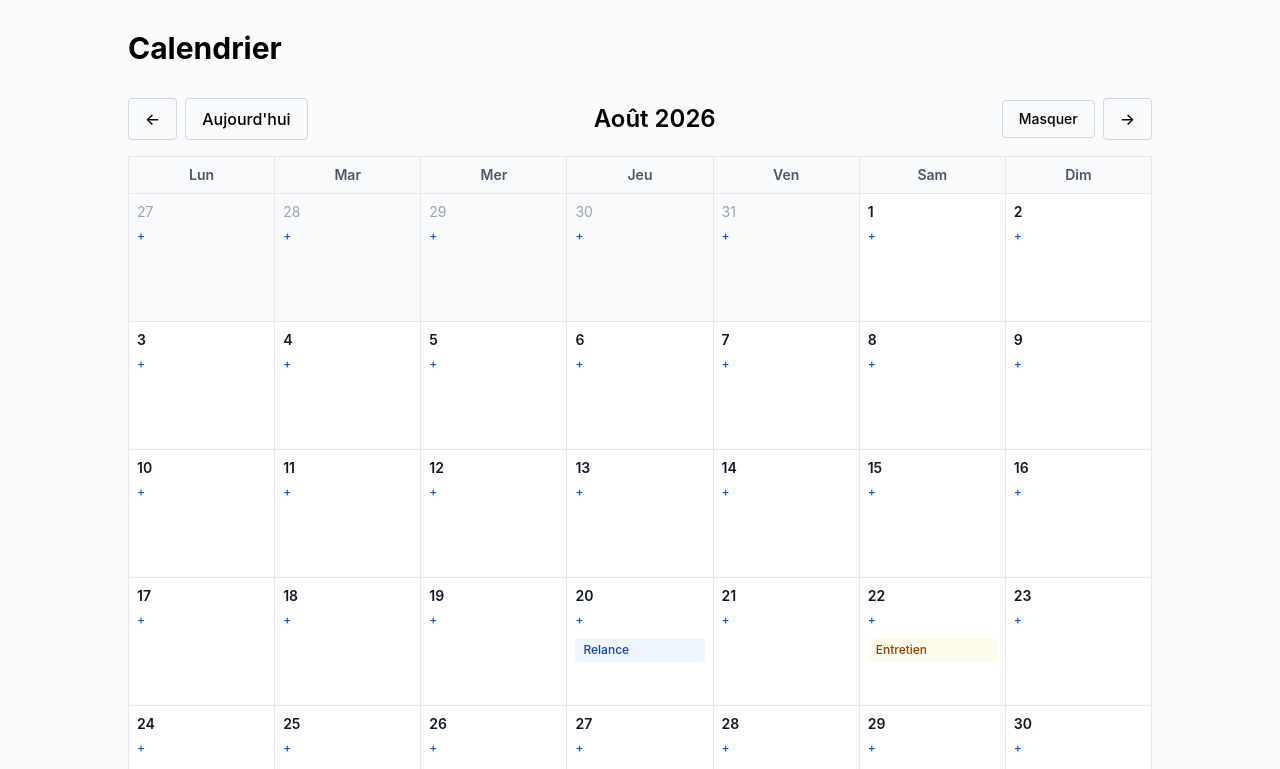
Test: CalendarPage › opens a follow-up form for a selected calendar day
The width and height of the screenshot is (1280, 769).
Click the button named "Ajouter un événement le 20 août 2026" at (579, 620), box [575,612,583,628]
(page scrolled)
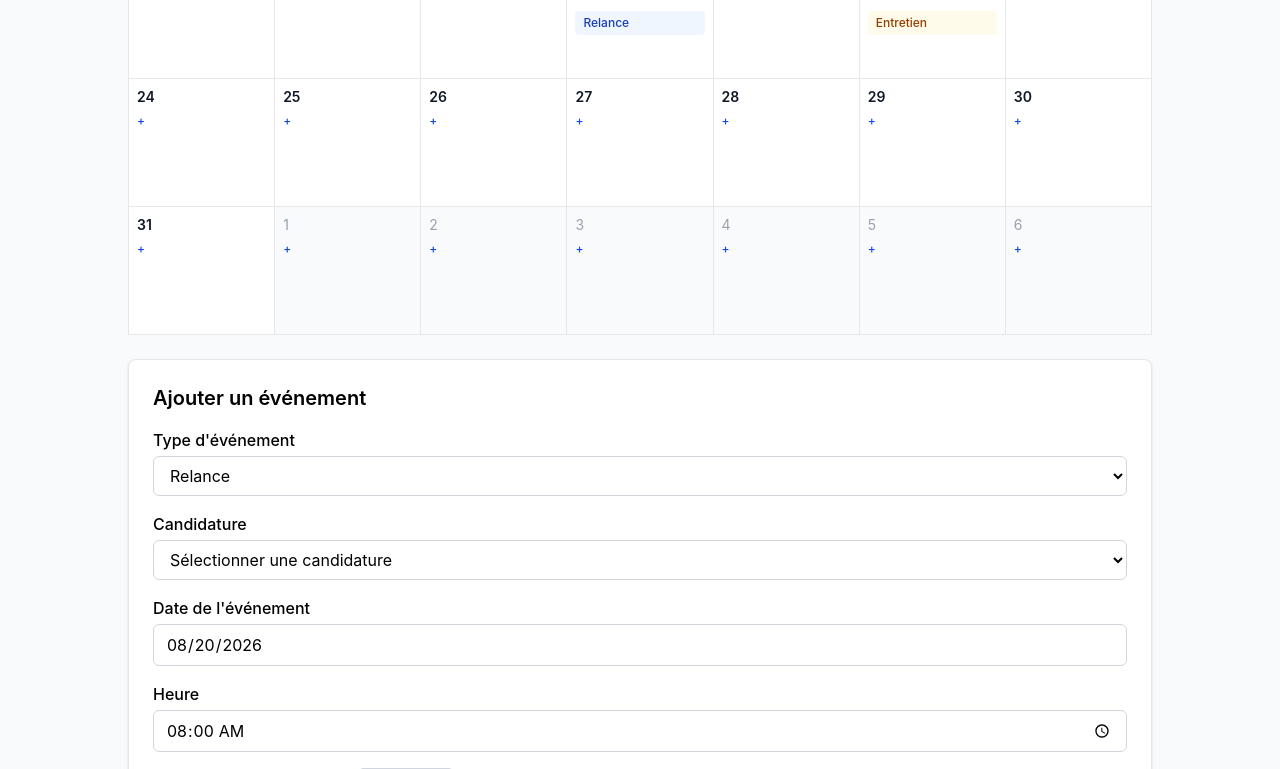
expect the heading "Ajouter un événement" is shown: met, box [153,386,366,410]
expect the dropdown labelled "Candidature" is shown: met, box [153,540,1127,580]
expect the date field labelled "Date de l'événement" holds "2026-08-20": met, box [153,624,1127,666]
